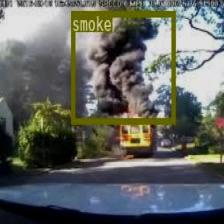smoke: (70, 11, 175, 123)
